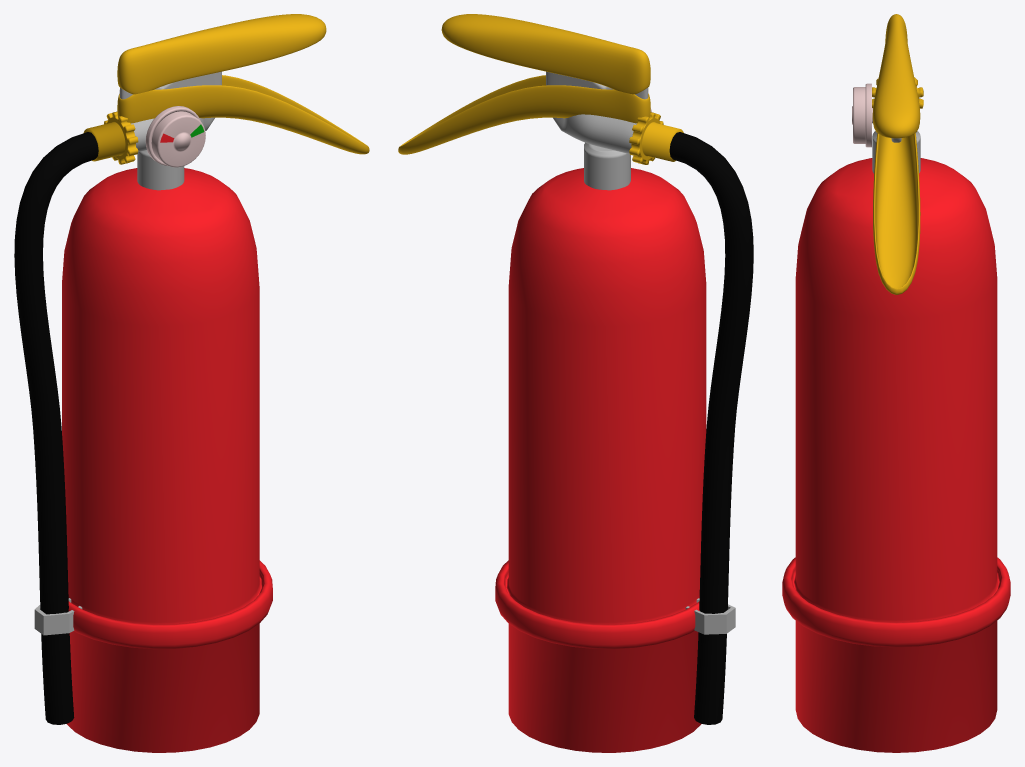
The model's file is matafuego.fbx.
3 views of the same model, side by side, from view 1: azimuth 30°, elevation 25°; view 2: azimuth 150°, elevation 25°; view 3: azimuth 270°, elevation 25° (orthographic).
Parts seen in each view (by area): view 1: Cylinder, BézierCurve, Plane.001, Plane.002, Cylinder.002, Gear, Cylinder.001, Plane, Plane.003; view 2: Cylinder, BézierCurve, Plane.001, Plane.002, Plane, Cylinder.001, Gear, Plane.003; view 3: Cylinder, Plane.002, Plane.001, Cylinder.002.
Boxes of the visible parts, <box> form: Cylinder: <box>62,168,272,752</box>; BézierCurve: <box>14,132,98,724</box>; Plane.001: <box>117,14,326,94</box>; Plane.002: <box>117,75,369,154</box>; Cylinder.002: <box>145,106,205,167</box>; Gear: <box>83,111,138,164</box>; Cylinder.001: <box>137,150,184,190</box>; Plane: <box>119,71,221,151</box>; Plane.003: <box>34,598,82,635</box>; Cylinder: <box>495,168,706,752</box>; BézierCurve: <box>669,132,753,724</box>; Plane.001: <box>441,14,650,94</box>; Plane.002: <box>398,75,650,154</box>; Plane: <box>546,71,648,153</box>; Cylinder.001: <box>584,142,630,190</box>; Gear: <box>629,112,683,164</box>; Plane.003: <box>685,598,735,634</box>; Cylinder: <box>782,158,1010,752</box>; Plane.002: <box>873,133,920,294</box>; Plane.001: <box>872,14,920,138</box>; Cylinder.002: <box>852,83,872,147</box>.
Size of the model in its own units: 56.95 by 104 by 31.49.
